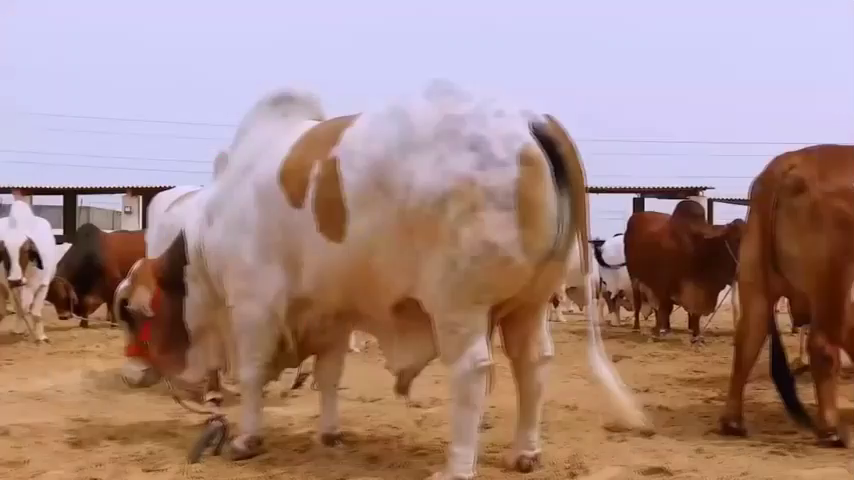bo: (111, 68, 664, 479), (702, 126, 854, 463), (627, 201, 746, 338), (36, 195, 135, 344), (2, 196, 52, 354), (588, 229, 643, 329)
